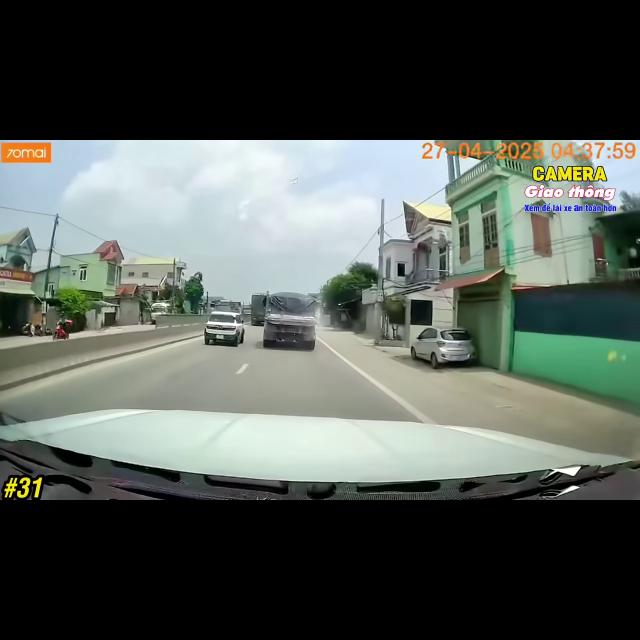car: (411, 327, 475, 368), (204, 311, 244, 346)
motorcycle: (52, 320, 72, 340)
truck: (263, 292, 318, 349), (250, 293, 266, 325), (150, 302, 172, 324), (215, 300, 242, 313)
